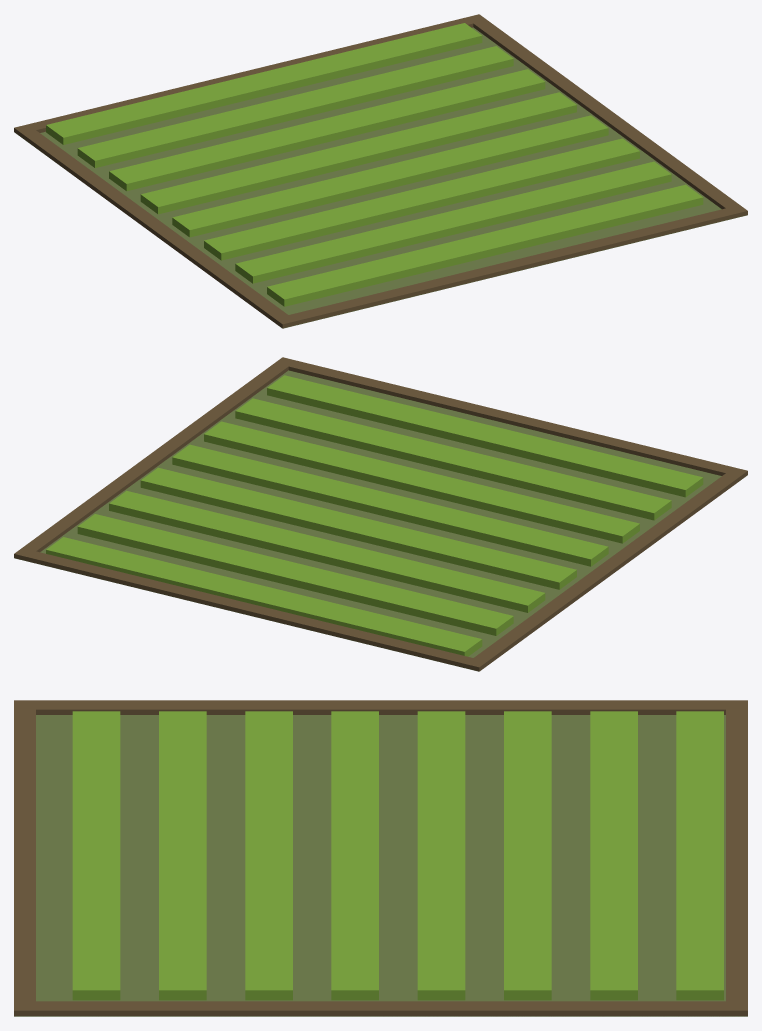
File: prop_cs_paddy.glb
3 renders of one model, top to bottom at view 1: azimuth 30°, elevation 25°; view 2: azimuth 150°, elevation 25°; view 3: azimuth 270°, elevation 25°, orthographic. The views are drawn at different scales.
Visible parts, largest first — view 1: prop_cs_paddy; view 2: prop_cs_paddy; view 3: prop_cs_paddy.
Boxes of the visible parts, box(x1,y1,x2,y2) form: prop_cs_paddy: box(14, 14, 747, 328); prop_cs_paddy: box(14, 357, 747, 671); prop_cs_paddy: box(14, 700, 747, 1016).
Size of the model in its own units: 20 by 0.32 by 20.
